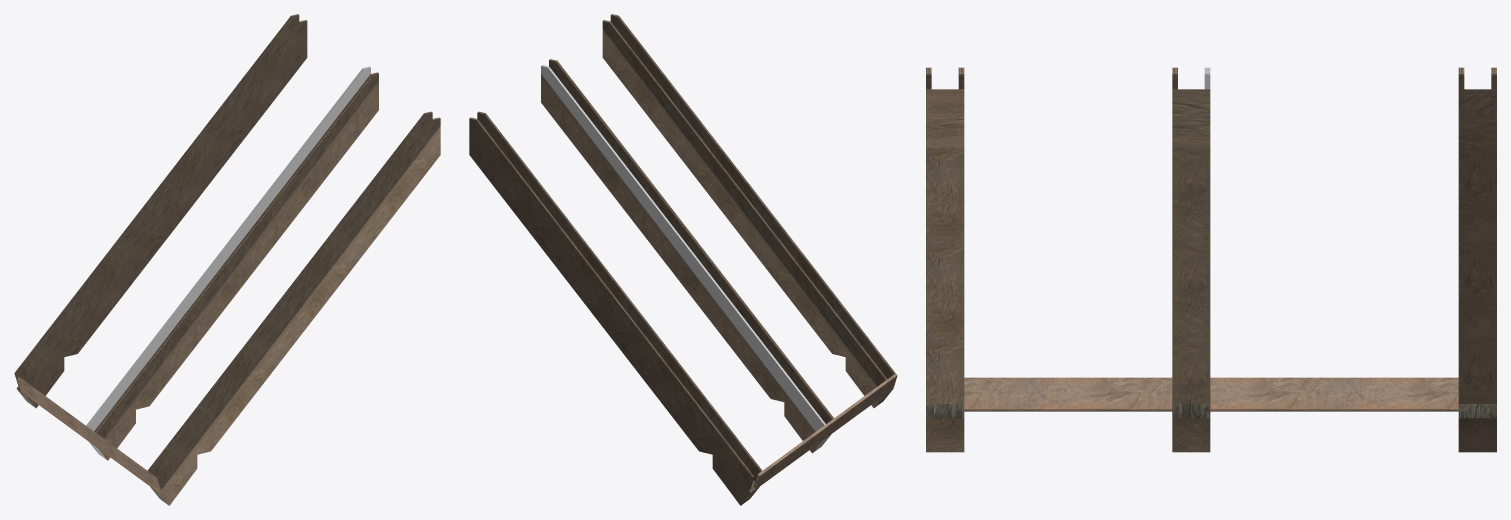
The model's file is RafterCapEndAOppisiteMirror.fbx.
3 views of the same model, side by side, from view 1: azimuth 30°, elevation 25°; view 2: azimuth 150°, elevation 25°; view 3: azimuth 270°, elevation 25° (orthographic). The views are drawn at different scales.
Parts seen in each view (by area): view 1: RafterCapEndAOppisiteMirror; view 2: RafterCapEndAOppisiteMirror; view 3: RafterCapEndAOppisiteMirror.
Boxes of the visible parts, x1=… form: RafterCapEndAOppisiteMirror: x1=14, y1=14, x2=440, y2=505; RafterCapEndAOppisiteMirror: x1=469, y1=14, x2=897, y2=505; RafterCapEndAOppisiteMirror: x1=926, y1=67, x2=1496, y2=452.
Bounding box in the file's own units: 465 × 500 × 402.
